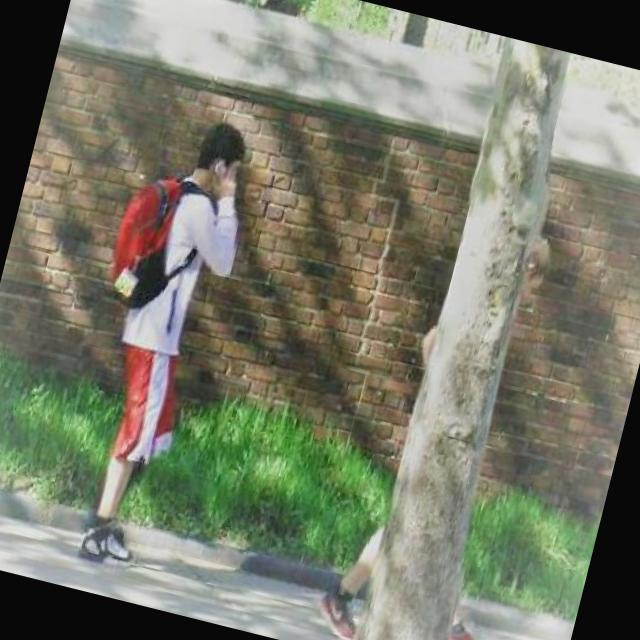Person: (39, 101, 266, 584)
